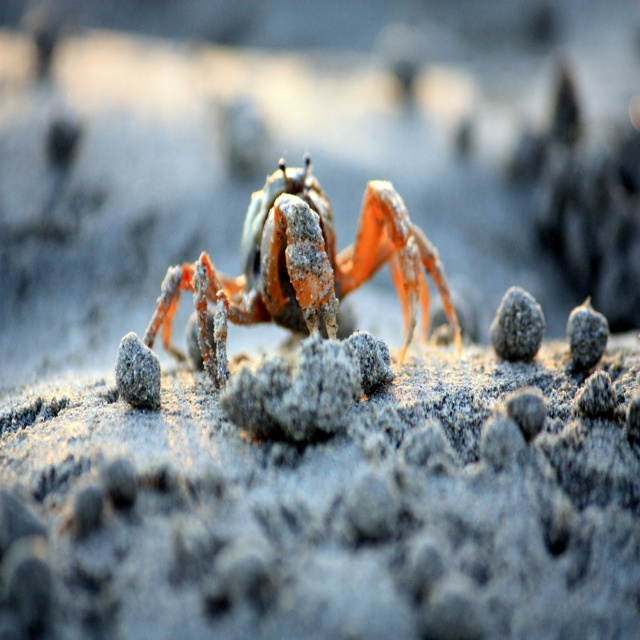Crab: (142, 149, 462, 388)
